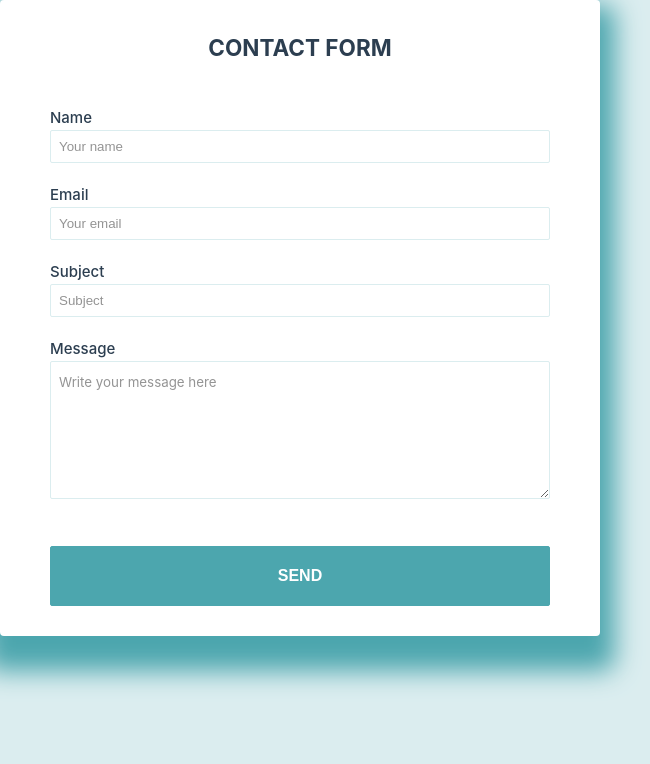
Test: HomeView.vue › enters invalid email
Type "www.google.com" into the field labelled "Email" at (300, 224), box [50, 207, 550, 240]
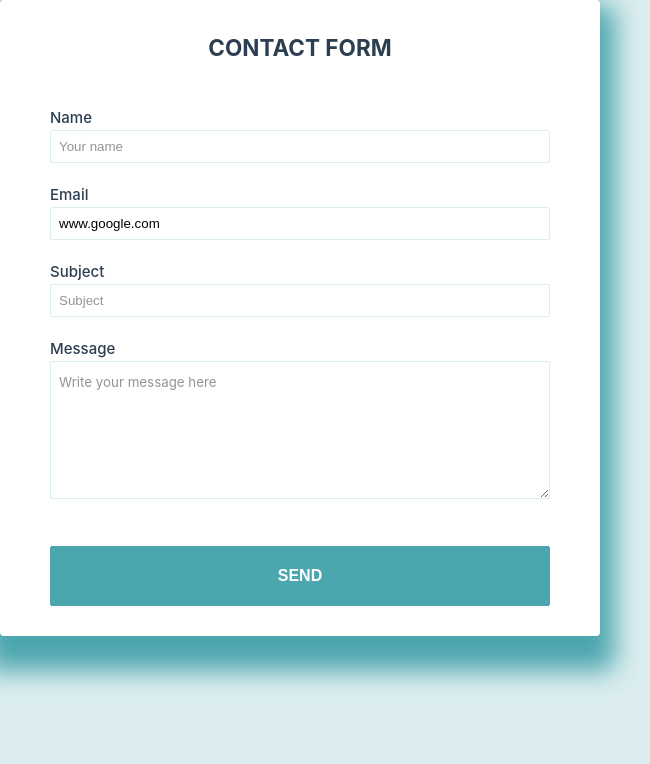
Submit the form with test id "form"
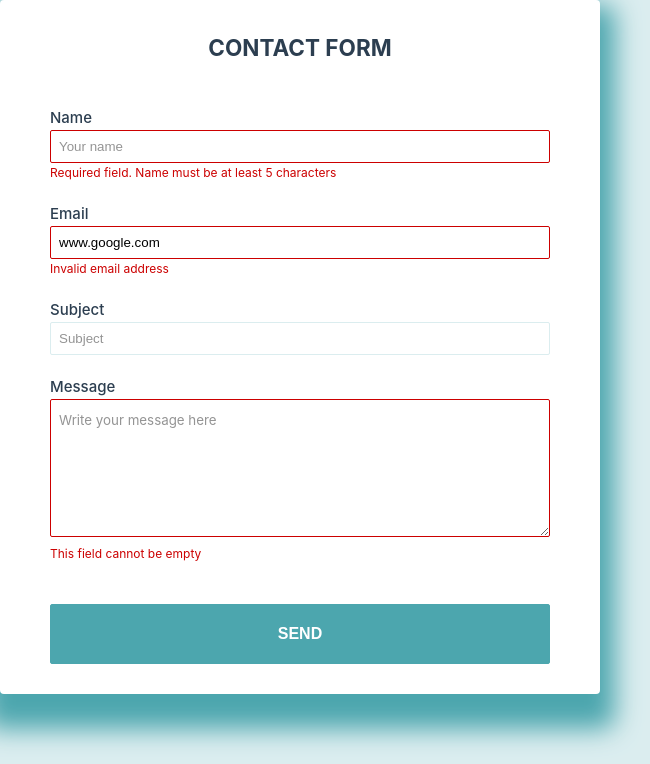
Expected: the text with class "error-message" reads "Invalid email address", [50, 261, 169, 276]
